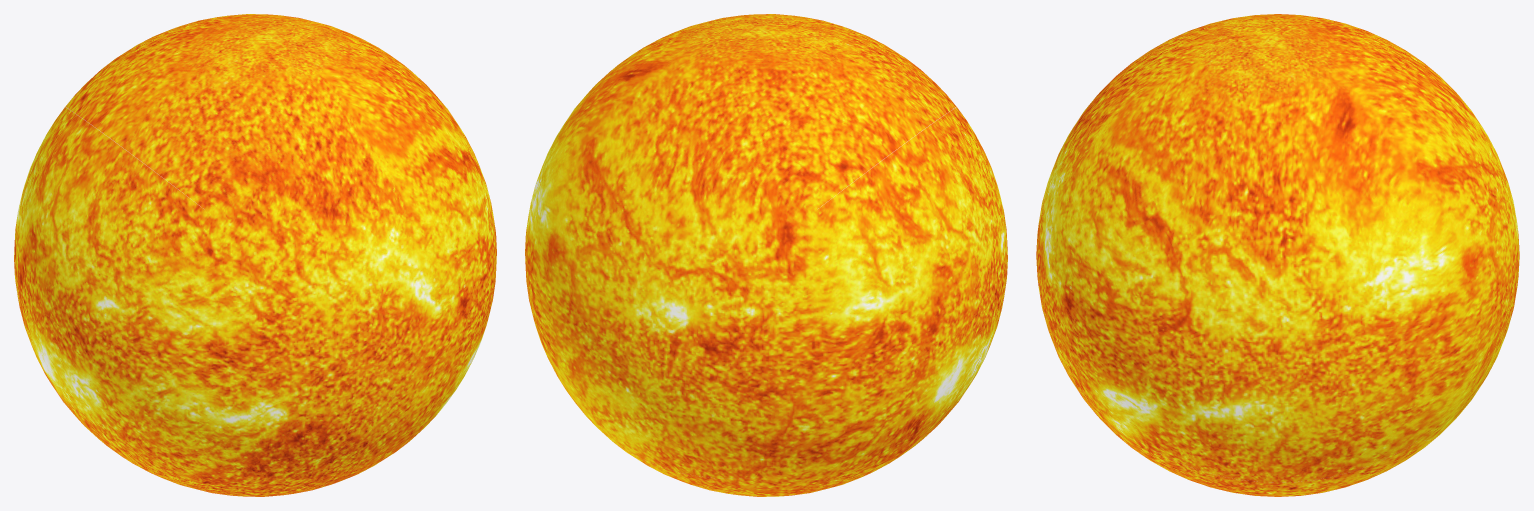
Rendered from sun3D.glb.
The picture shows the model from 3 angles, left to right: view 1: azimuth 30°, elevation 25°; view 2: azimuth 150°, elevation 25°; view 3: azimuth 270°, elevation 25°; orthographic projection.
Parts seen in each view (by area): view 1: Cube_002; view 2: Cube_002; view 3: Cube_002.
Part boxes in pixels (box(x1,y1,x2,y2)): Cube_002: box(14, 14, 496, 496); Cube_002: box(525, 14, 1007, 496); Cube_002: box(1036, 14, 1519, 496).
Size of the model in its own units: 300 by 300 by 300.
Materials: 1 (1 with a texture image).
